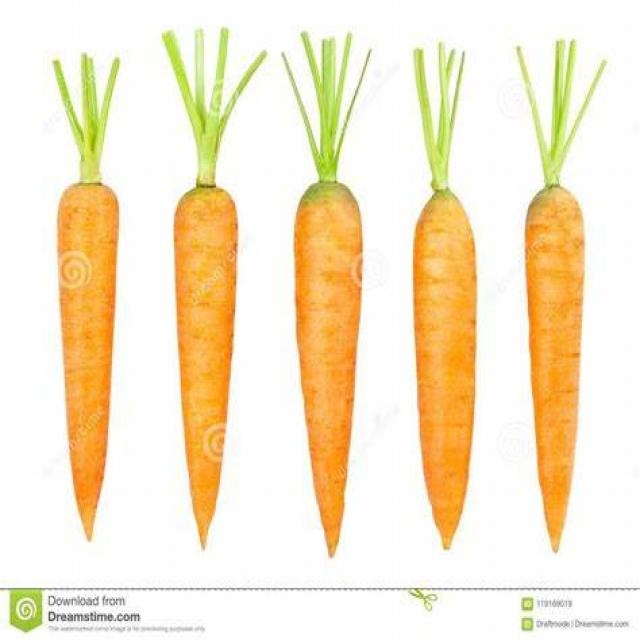Carrot: (166, 31, 264, 550), (511, 45, 605, 564), (282, 26, 369, 562), (404, 46, 482, 558), (52, 62, 118, 543)
